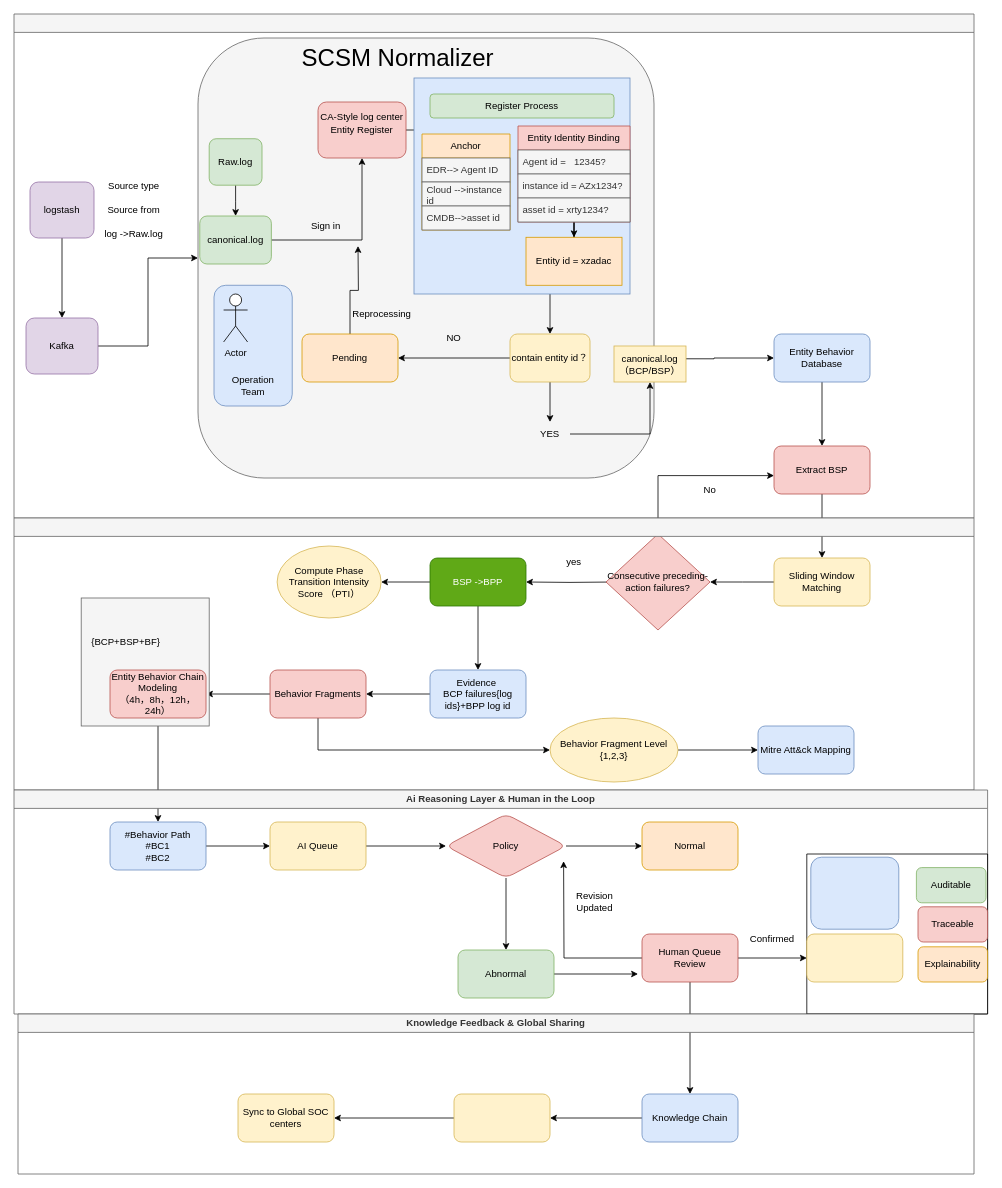
The diagram is 1002 pixels wide and 1188 high, and some of its shapes have lost their labels. Each missing label, with the centre of its shape:
"Behavior Chain Modeling Layer" goes at (x=493, y=653).
"Field Normalization Layer" goes at (x=493, y=265).
"Markdown Structured Investigate Report Generated" goes at (x=854, y=957).
"Regulation Compliance Insurance" goes at (x=854, y=892).
"Security Investigation Alliance" goes at (x=501, y=1117).
